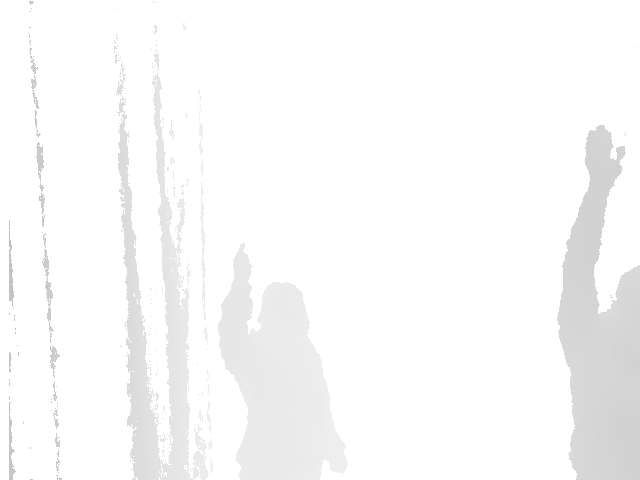hand: (584, 125, 627, 193), (228, 240, 254, 302)
head: (258, 279, 312, 345), (613, 241, 640, 310)
person: (218, 240, 347, 480), (558, 122, 638, 480)
